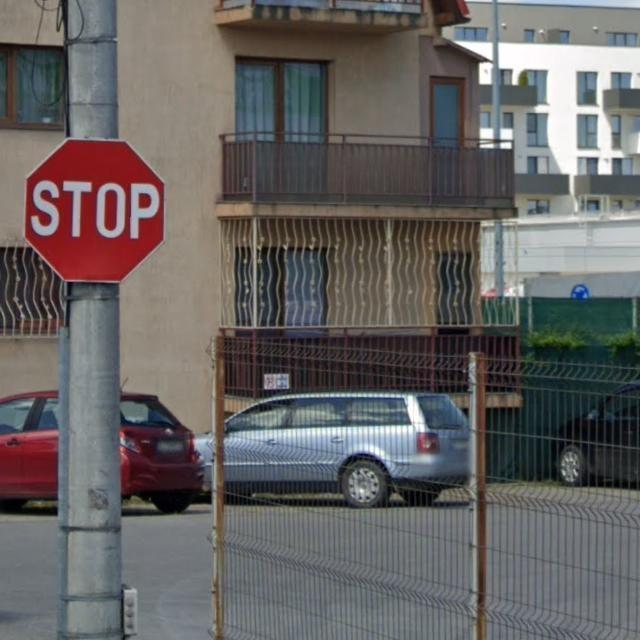prio_stop: (25, 138, 164, 280)
